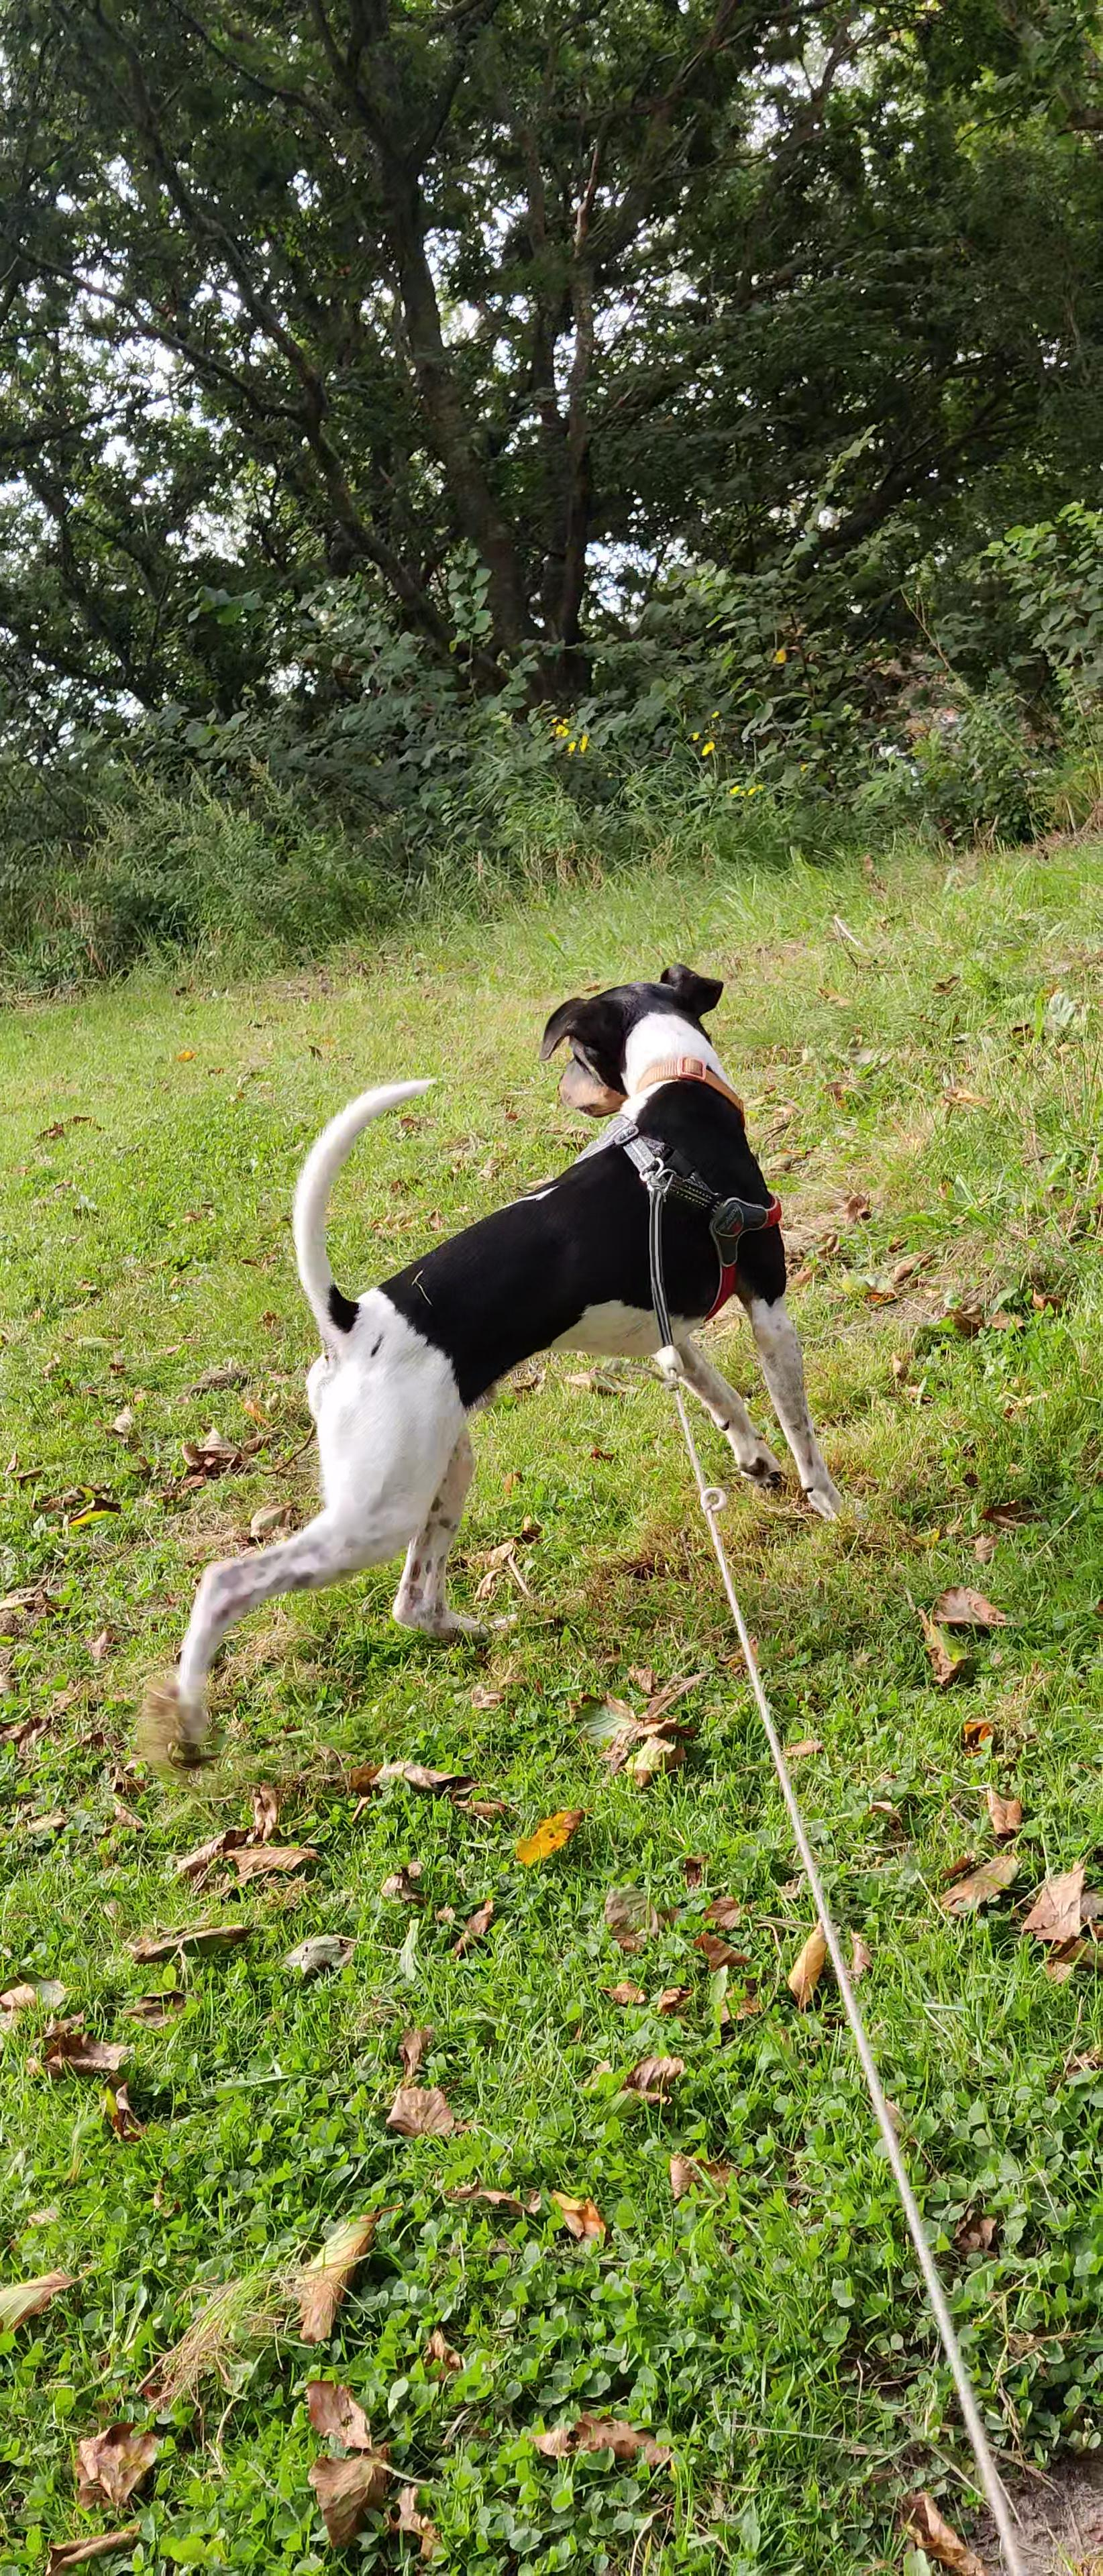Dog: (164, 954, 878, 1740)
